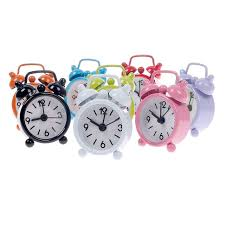alarm_clock: (7, 53, 218, 154)
